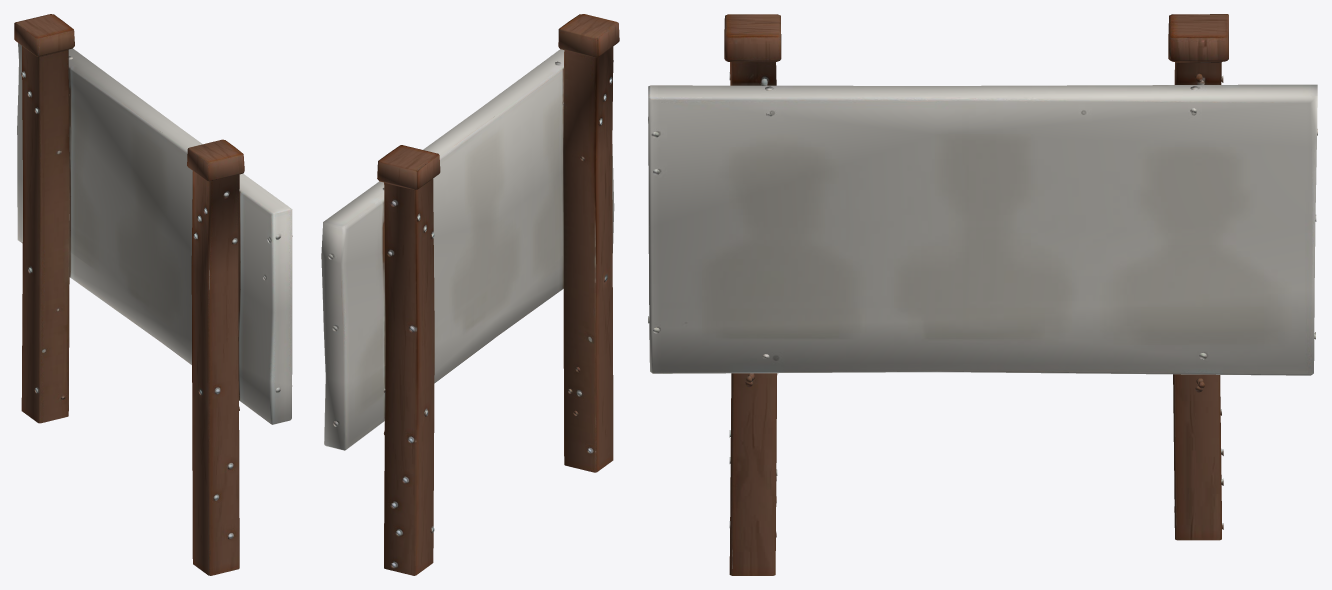
The picture shows the model from 3 angles, left to right: view 1: azimuth 30°, elevation 25°; view 2: azimuth 150°, elevation 25°; view 3: azimuth 270°, elevation 25°; orthographic projection. The views are drawn at different scales.
Size of the model in its own units: 0.1323 by 0.8901 by 0.9995.
1 material, 1 textured.
